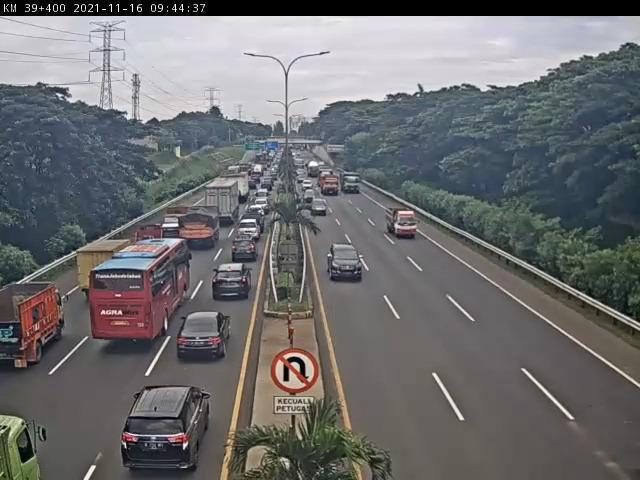bus: (92, 239, 191, 344)
car: (121, 384, 215, 475), (176, 316, 231, 367), (211, 266, 252, 304), (325, 245, 365, 283), (230, 241, 257, 267), (238, 220, 260, 243), (244, 215, 267, 232), (311, 200, 328, 219), (248, 204, 267, 219)
truck: (1, 279, 65, 374), (77, 238, 134, 306), (202, 182, 242, 224), (181, 208, 222, 248), (124, 225, 164, 258), (158, 205, 193, 242), (386, 208, 421, 240)
